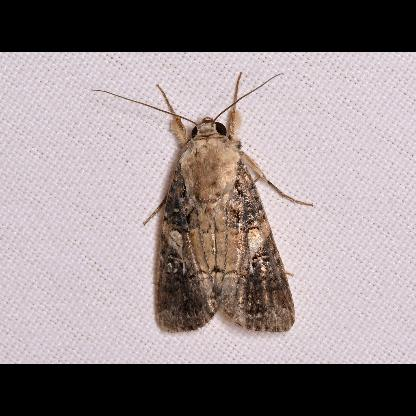Fall Armyworm Moth: (89, 69, 317, 337)
